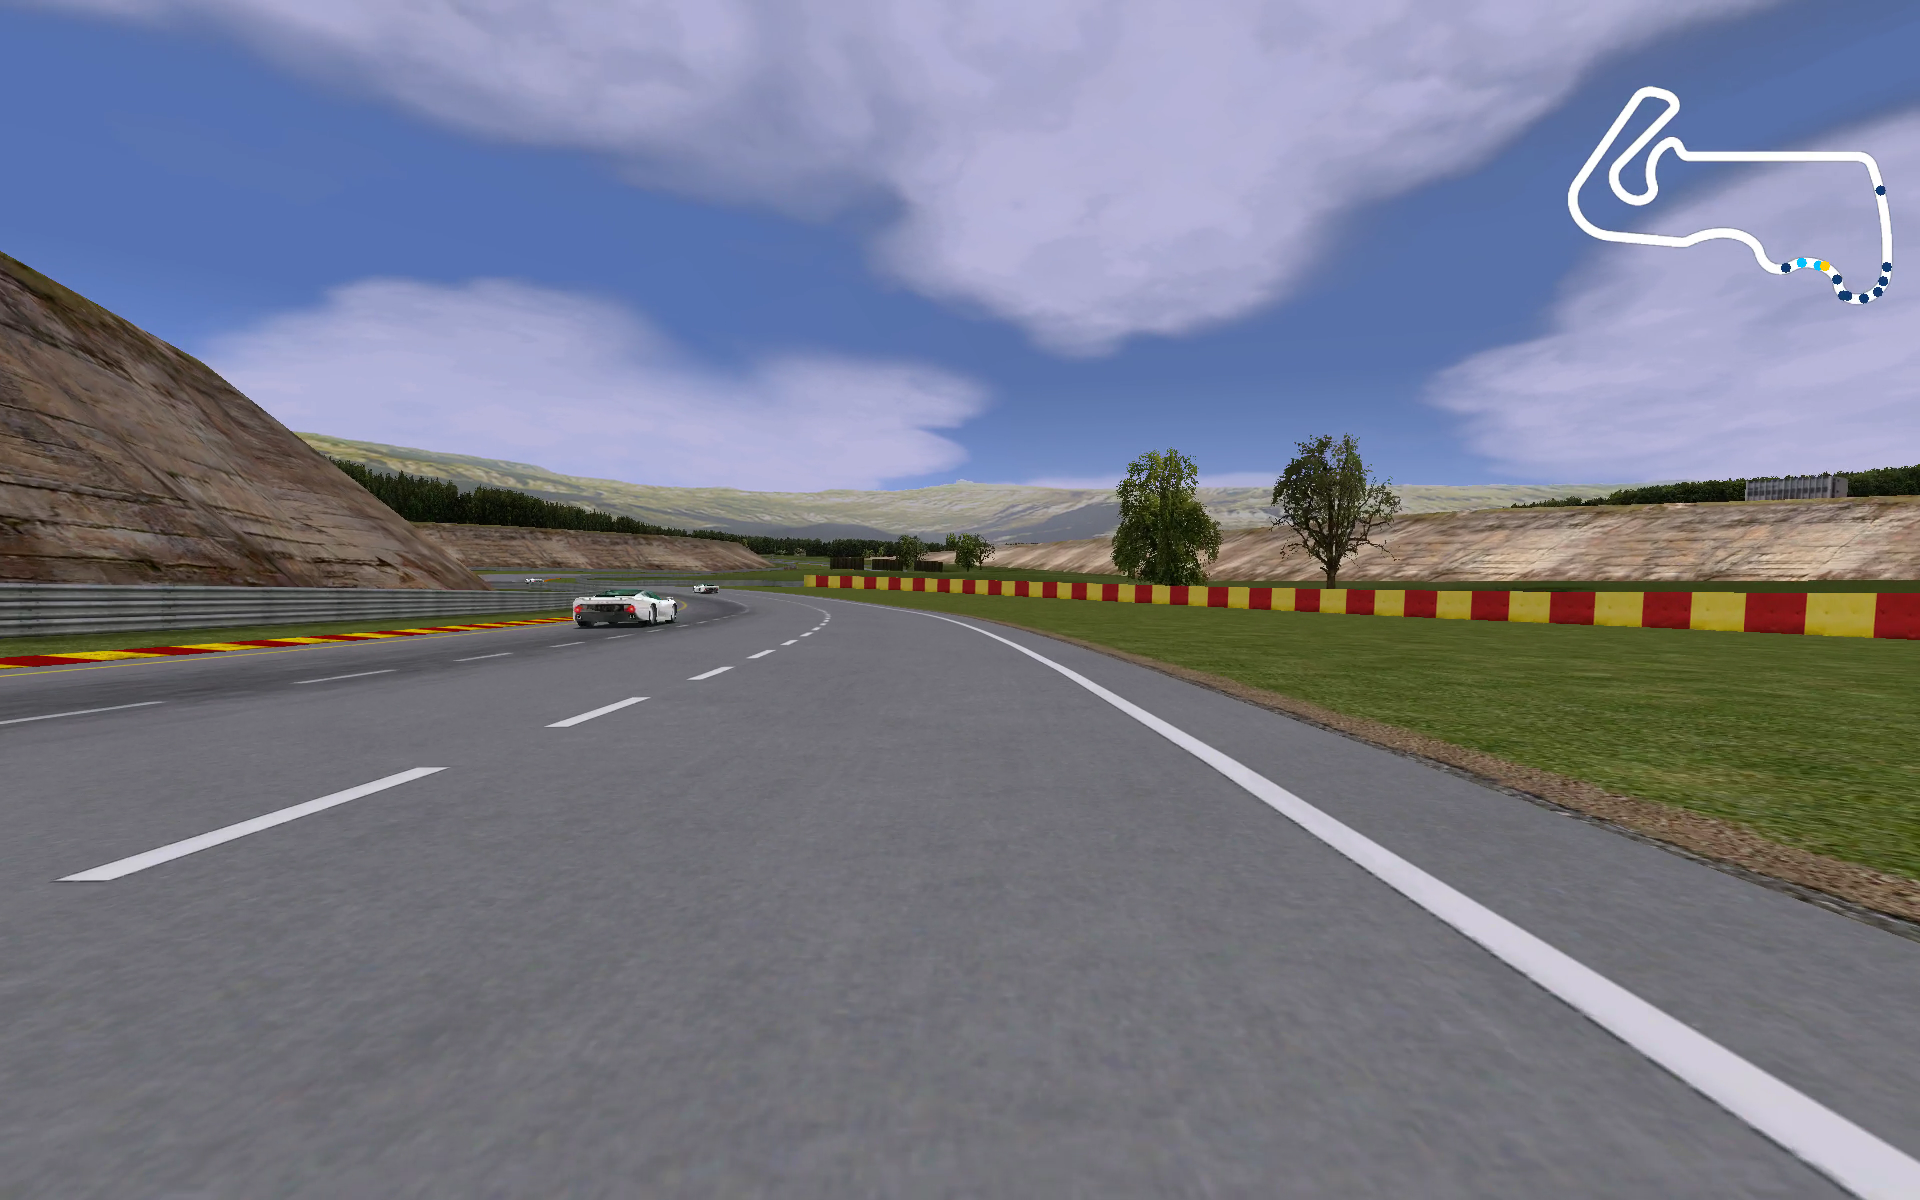car: (571, 589, 680, 632), (691, 581, 728, 594)
